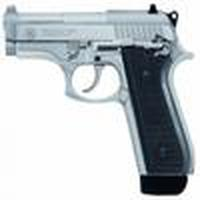gun: (2, 6, 193, 189)
